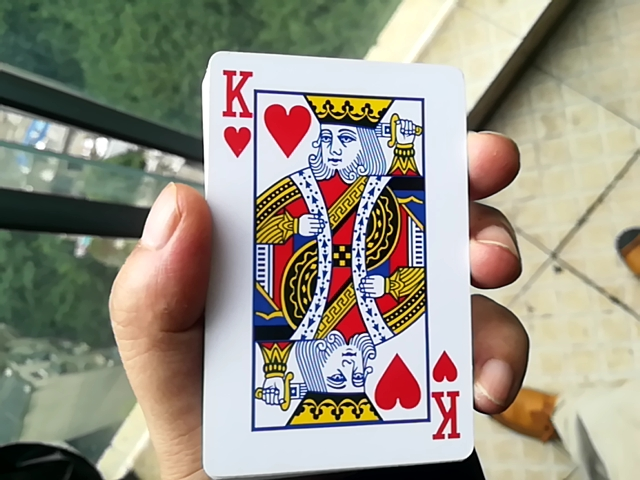hx k: (187, 36, 465, 473)
